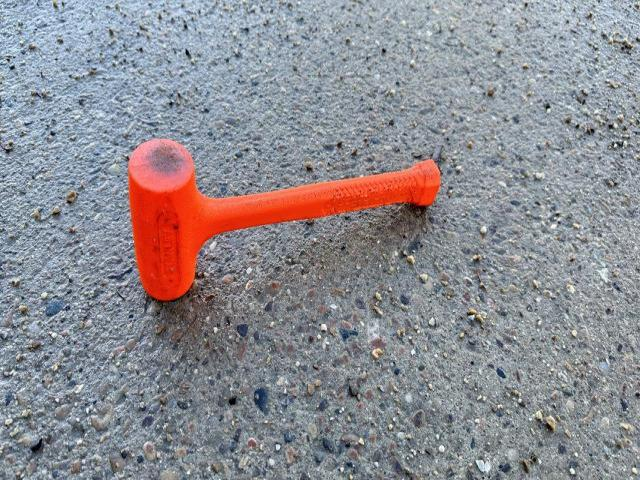hammer: (128, 138, 440, 300)
